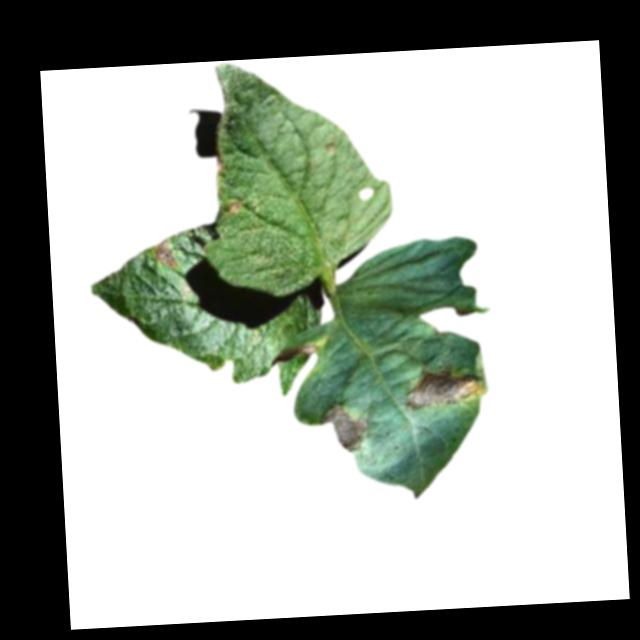Early_blight: (406, 359, 484, 413), (319, 398, 370, 456), (267, 340, 317, 368), (155, 238, 179, 271), (212, 153, 226, 177), (227, 198, 240, 215)
